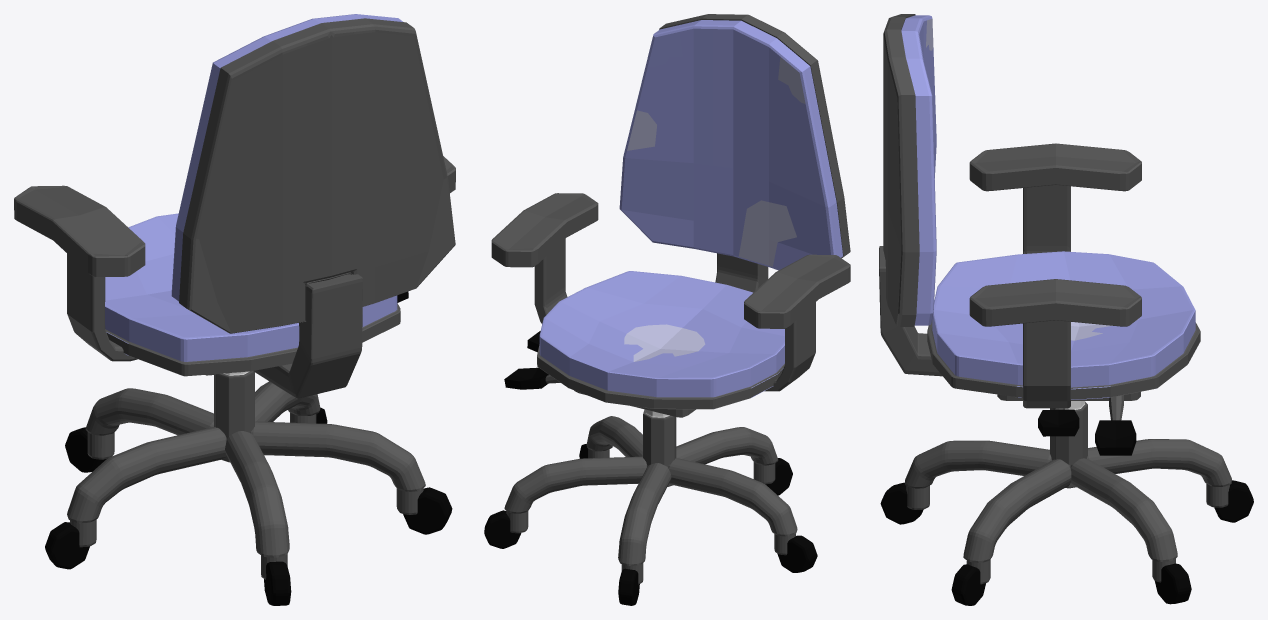
The model's file is Desk Chair.fbx.
3 views of the same model, side by side, from view 1: azimuth 30°, elevation 25°; view 2: azimuth 150°, elevation 25°; view 3: azimuth 270°, elevation 25° (orthographic). The views are drawn at different scales.
Visible parts, largest first — view 1: Desk Chair; view 2: Desk Chair; view 3: Desk Chair.
Part boxes in pixels (bbox=[...]): Desk Chair: bbox=[14, 14, 455, 605]; Desk Chair: bbox=[484, 14, 850, 605]; Desk Chair: bbox=[879, 14, 1253, 605].
Bounding box in the file's own units: 525 × 786 × 522.
